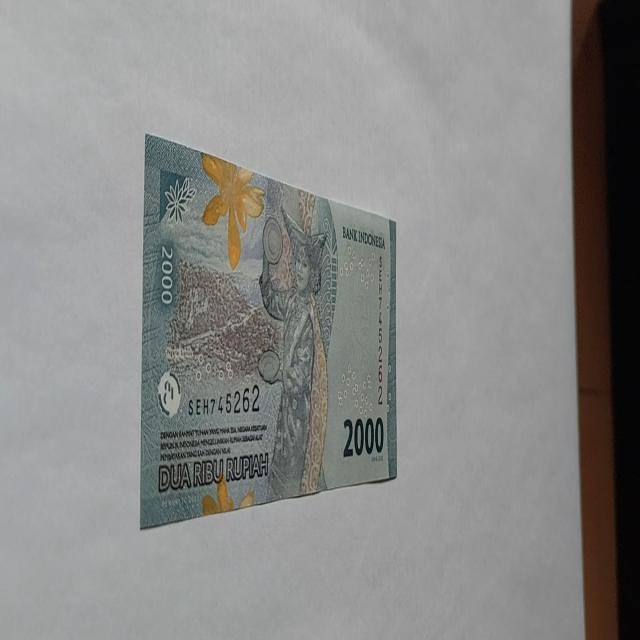dua ribu rupiah: (140, 136, 398, 527), (256, 205, 330, 503), (200, 151, 266, 271)
